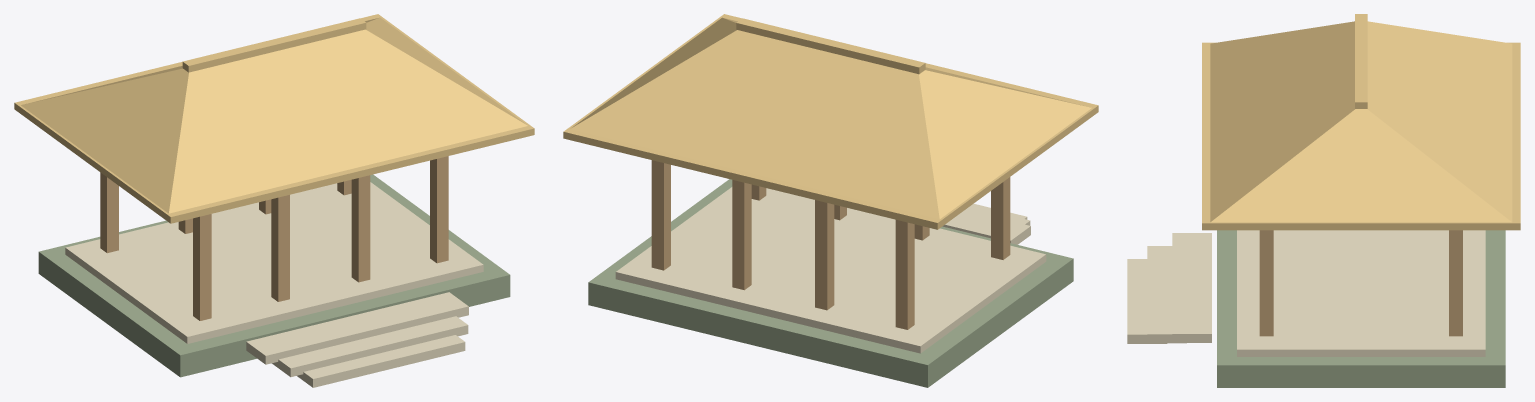
The model's file is mai-dinh-minh-hoa.glb.
3 renders of one model, left to right at view 1: azimuth 30°, elevation 25°; view 2: azimuth 150°, elevation 25°; view 3: azimuth 270°, elevation 25°, orthographic. The views are drawn at different scales.
Visible parts, largest first — view 1: mai-dinh-minh-hoa.glb; view 2: mai-dinh-minh-hoa.glb; view 3: mai-dinh-minh-hoa.glb.
Boxes of the visible parts, x1,y1,x2,y2 form: mai-dinh-minh-hoa.glb: (14, 14, 534, 387); mai-dinh-minh-hoa.glb: (563, 14, 1098, 387); mai-dinh-minh-hoa.glb: (1127, 14, 1520, 387).
Size of the model in its own units: 0.86 by 0.5495 by 0.79.
